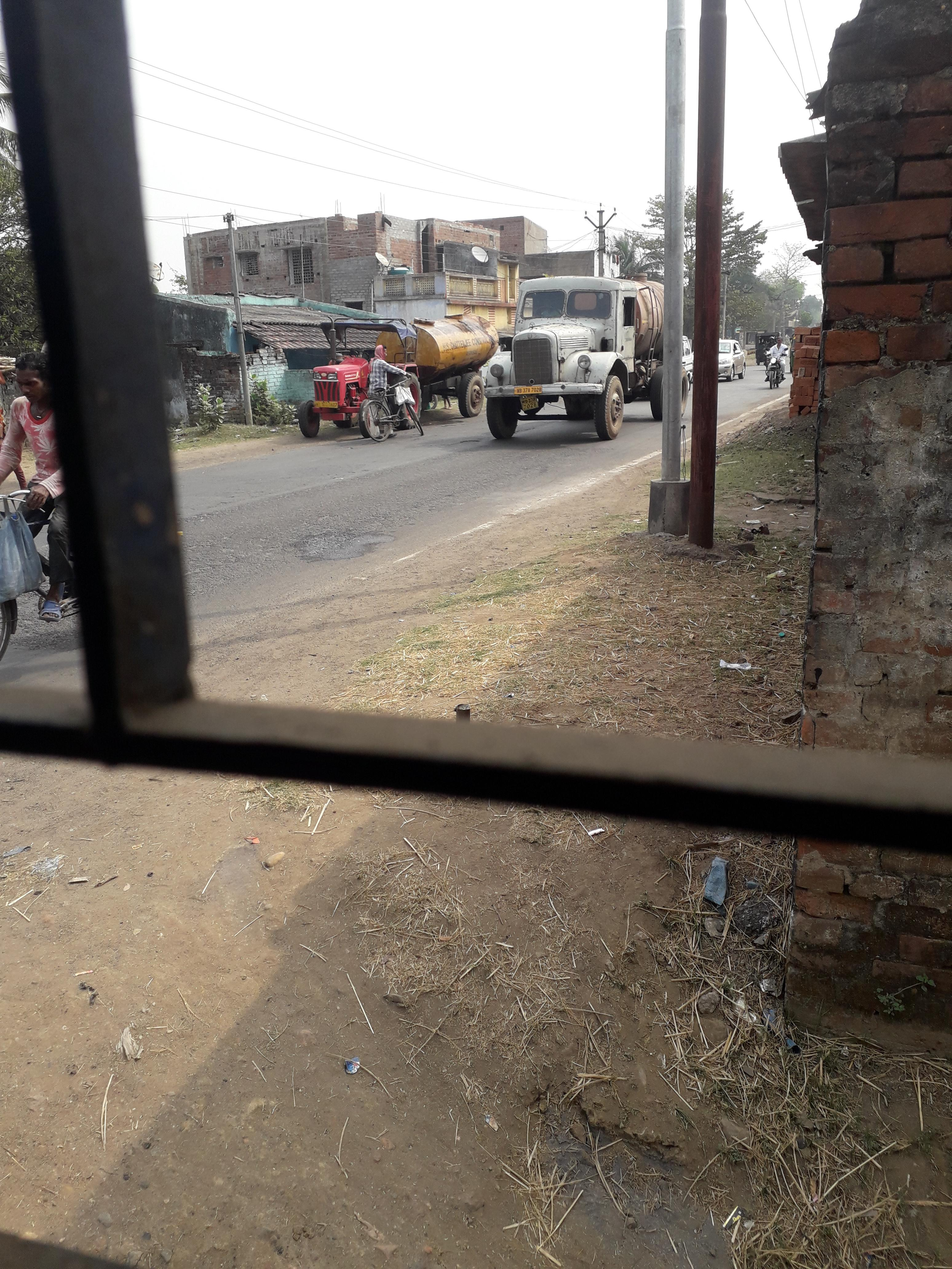Non-emergency: (465, 269, 688, 470)
